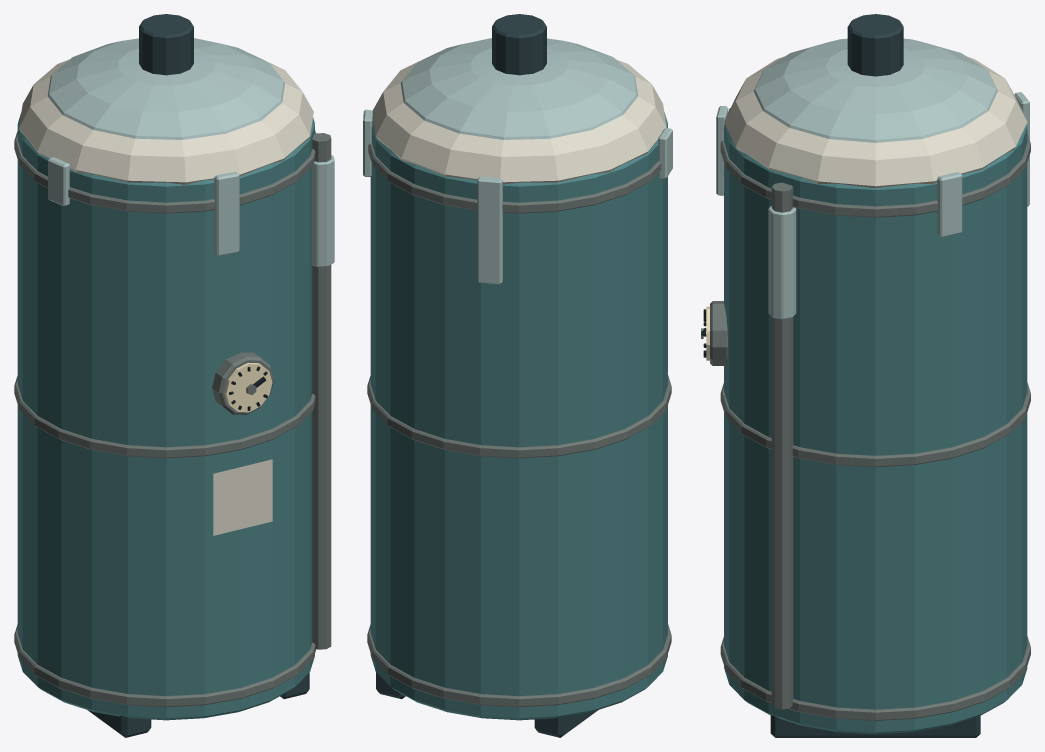
File: coolant-tank.glb
The picture shows the model from 3 angles, left to right: view 1: azimuth 30°, elevation 25°; view 2: azimuth 150°, elevation 25°; view 3: azimuth 270°, elevation 25°; orthographic projection.
Parts seen in each view (by area): view 1: coolant-tank__coolant-tank__petrol, coolant-tank__coolant-tank__frost, coolant-tank__coolant-tank__hardware, coolant-tank__coolant-tank__ivory, coolant-tank__coolant-tank__steel, coolant-tank__coolant-tank__decal-ivory, coolant-tank__coolant-tank__gauge-face; view 2: coolant-tank__coolant-tank__petrol, coolant-tank__coolant-tank__frost, coolant-tank__coolant-tank__ivory, coolant-tank__coolant-tank__hardware, coolant-tank__coolant-tank__steel; view 3: coolant-tank__coolant-tank__petrol, coolant-tank__coolant-tank__frost, coolant-tank__coolant-tank__hardware, coolant-tank__coolant-tank__ivory, coolant-tank__coolant-tank__steel.
Part boxes in pixels (bbox=[...]): coolant-tank__coolant-tank__petrol: bbox=[17, 113, 314, 720]; coolant-tank__coolant-tank__frost: bbox=[47, 38, 334, 266]; coolant-tank__coolant-tank__hardware: bbox=[14, 130, 331, 707]; coolant-tank__coolant-tank__ivory: bbox=[19, 59, 313, 184]; coolant-tank__coolant-tank__steel: bbox=[87, 14, 309, 737]; coolant-tank__coolant-tank__decal-ivory: bbox=[213, 459, 272, 535]; coolant-tank__coolant-tank__gauge-face: bbox=[224, 362, 272, 412]; coolant-tank__coolant-tank__petrol: bbox=[370, 112, 667, 720]; coolant-tank__coolant-tank__frost: bbox=[363, 38, 672, 284]; coolant-tank__coolant-tank__ivory: bbox=[372, 57, 666, 184]; coolant-tank__coolant-tank__hardware: bbox=[367, 143, 671, 707]; coolant-tank__coolant-tank__steel: bbox=[376, 14, 597, 737]; coolant-tank__coolant-tank__petrol: bbox=[724, 108, 1027, 734]; coolant-tank__coolant-tank__frost: bbox=[716, 38, 1029, 319]; coolant-tank__coolant-tank__hardware: bbox=[701, 133, 1030, 720]; coolant-tank__coolant-tank__ivory: bbox=[724, 56, 1027, 187]; coolant-tank__coolant-tank__steel: bbox=[770, 14, 980, 737].
Size of the model in its own units: 1.34 by 3.16 by 1.41.
